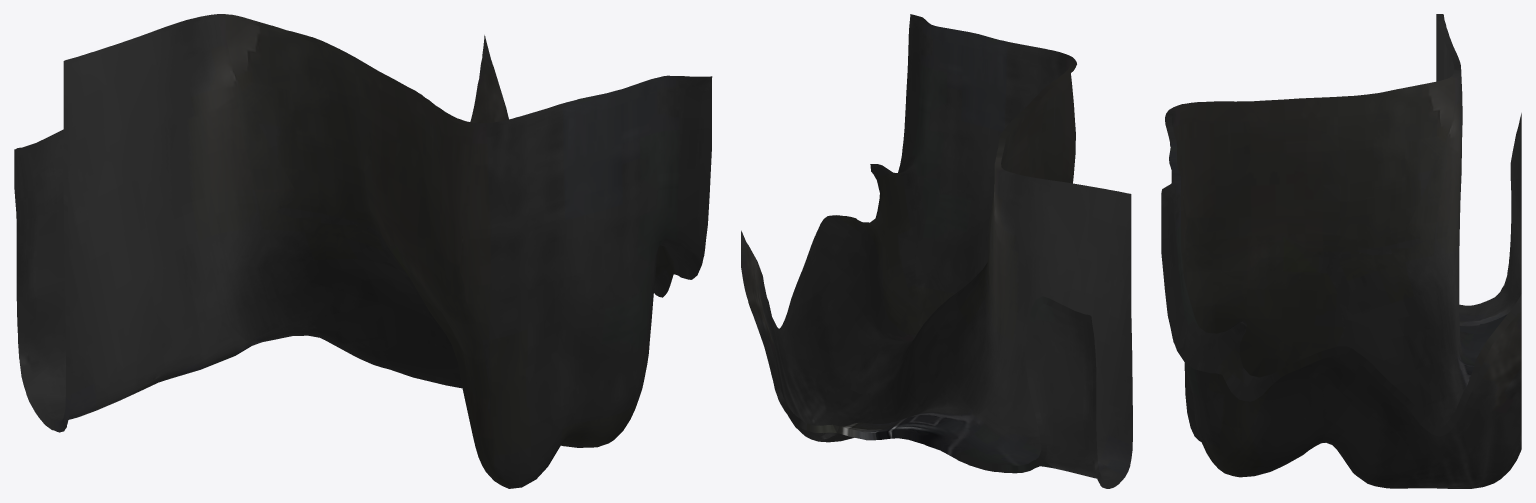
File: z20-167763-405235-h0-yup-uvflip-v3-world.glb
3 views of the same model, side by side, from view 1: azimuth 30°, elevation 25°; view 2: azimuth 150°, elevation 25°; view 3: azimuth 270°, elevation 25° (orthographic). The views are drawn at different scales.
Size of the model in its own units: 30.2 by 25 by 25.24.
1 material, 1 textured.
